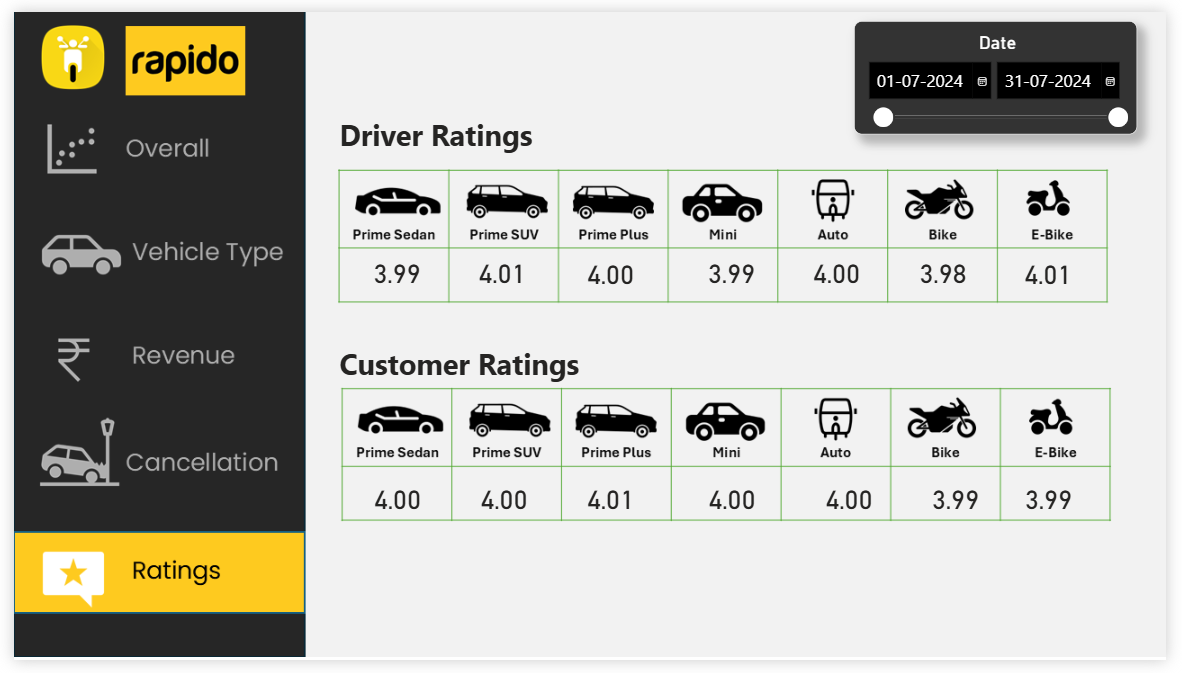

What the dashboard file says about the page in this screenshot:
{"tool":"powerbi","page":{"name":"Ratings","canvas":[1280,720],"ordinal":4},"visuals":[{"type":"card","fields":{"Values":["Avg(July.Driver_Ratings)"]},"box":[366.8,253.7,117.2,70.3],"z":0},{"type":"card","fields":{"Values":["Avg(July.Driver_Ratings)"]},"box":[483.9,253.7,117.2,70.3],"z":1000},{"type":"card","fields":{"Values":["Avg(July.Driver_Ratings)"]},"box":[602.7,254.4,118.1,69.7],"z":2000},{"type":"card","fields":{"Values":["Avg(July.Driver_Ratings)"]},"box":[738.6,253.7,117.2,70.3],"z":3000},{"type":"card","fields":{"Values":["Avg(July.Driver_Ratings)"]},"box":[855.8,253.7,117.2,70.3],"z":4000},{"type":"card","fields":{"Values":["Avg(July.Driver_Ratings)"]},"box":[973,253.7,117.2,70.3],"z":5000},{"type":"card","fields":{"Values":["Avg(July.Driver_Ratings)"]},"box":[1090.2,254.4,116.6,69.7],"z":6000},{"type":"textbox","box":[356.3,108.5,299.8,80.3],"z":7000},{"type":"textbox","box":[356.3,362.9,299.8,80.3],"z":8000},{"type":"card","fields":{"Values":["Avg(July.Customer_Rating)"]},"box":[366.9,505.2,118.1,69.7],"z":9000},{"type":"card","fields":{"Values":["Avg(July.Customer_Rating)"]},"box":[485.1,505.2,118.1,69.7],"z":10000},{"type":"card","fields":{"Values":["Avg(July.Customer_Rating)"]},"box":[602.7,505.7,118.1,69.7],"z":11000},{"type":"card","fields":{"Values":["Avg(July.Customer_Rating)"]},"box":[737.9,505.2,118.1,69.7],"z":12000},{"type":"card","fields":{"Values":["Avg(July.Customer_Rating)"]},"box":[868.1,505.2,118.1,69.7],"z":13000},{"type":"card","fields":{"Values":["Avg(July.Customer_Rating)"]},"box":[986.3,505.2,118.1,69.7],"z":14000},{"type":"card","fields":{"Values":["Avg(July.Customer_Rating)"]},"box":[1090.2,505.7,118.1,69.7],"z":15000},{"type":"slicer","title":"Date","fields":{"Values":["July.Date"]},"box":[932.8,10.6,315,125.7],"z":16000}]}

Visuals, with their boxes on the page's 1280x720 design canvas (x1, y1, x2, y2). These are canvas units, not pixel positions in the 1182x673 screenshot, which may show the page scaled, cropped or inside an application window:
card - Avg(July.Driver_Ratings): select_region(367, 254, 484, 324)
card - Avg(July.Driver_Ratings): select_region(484, 254, 601, 324)
card - Avg(July.Driver_Ratings): select_region(603, 254, 721, 324)
card - Avg(July.Driver_Ratings): select_region(739, 254, 856, 324)
card - Avg(July.Driver_Ratings): select_region(856, 254, 973, 324)
card - Avg(July.Driver_Ratings): select_region(973, 254, 1090, 324)
card - Avg(July.Driver_Ratings): select_region(1090, 254, 1207, 324)
textbox: select_region(356, 108, 656, 189)
textbox: select_region(356, 363, 656, 443)
card - Avg(July.Customer_Rating): select_region(367, 505, 485, 575)
card - Avg(July.Customer_Rating): select_region(485, 505, 603, 575)
card - Avg(July.Customer_Rating): select_region(603, 506, 721, 575)
card - Avg(July.Customer_Rating): select_region(738, 505, 856, 575)
card - Avg(July.Customer_Rating): select_region(868, 505, 986, 575)
card - Avg(July.Customer_Rating): select_region(986, 505, 1104, 575)
card - Avg(July.Customer_Rating): select_region(1090, 506, 1208, 575)
"Date" slicer: select_region(933, 11, 1248, 136)
